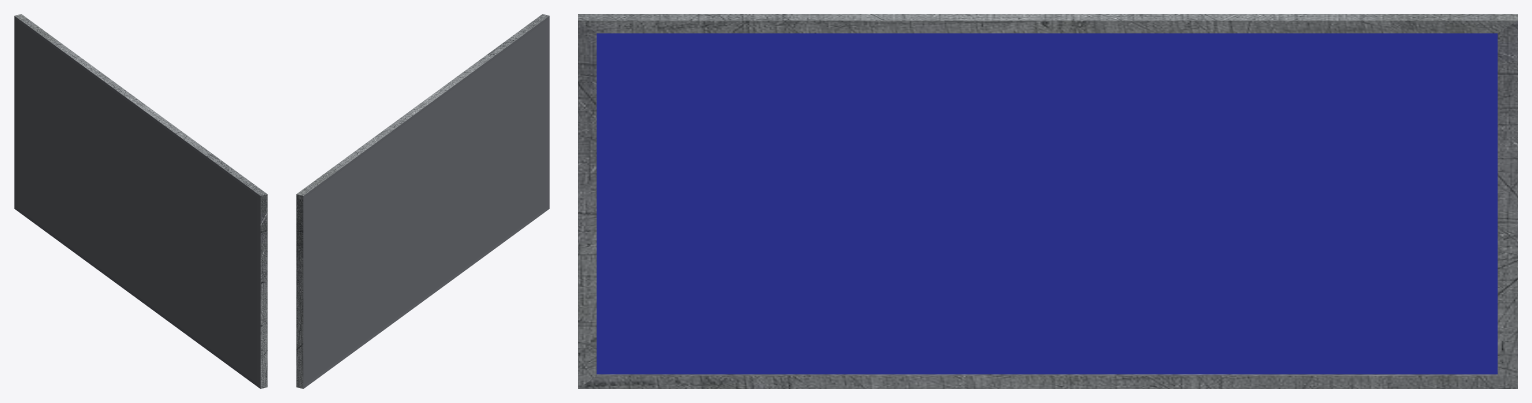
The model's file is IR Mirror NEW.fbx.
3 renders of one model, left to right at view 1: azimuth 30°, elevation 25°; view 2: azimuth 150°, elevation 25°; view 3: azimuth 270°, elevation 25°, orthographic. The views are drawn at different scales.
Visible parts, largest first — view 1: Mirror Border; view 2: Mirror Border; view 3: Mirror, Mirror Border.
Part boxes in pixels (bbox=[...]): Mirror Border: bbox=[14, 14, 267, 388]; Mirror Border: bbox=[296, 14, 549, 388]; Mirror: bbox=[596, 33, 1497, 374]; Mirror Border: bbox=[578, 14, 1517, 388].
Size of the model in its own units: 3.62 by 93.4 by 216.
